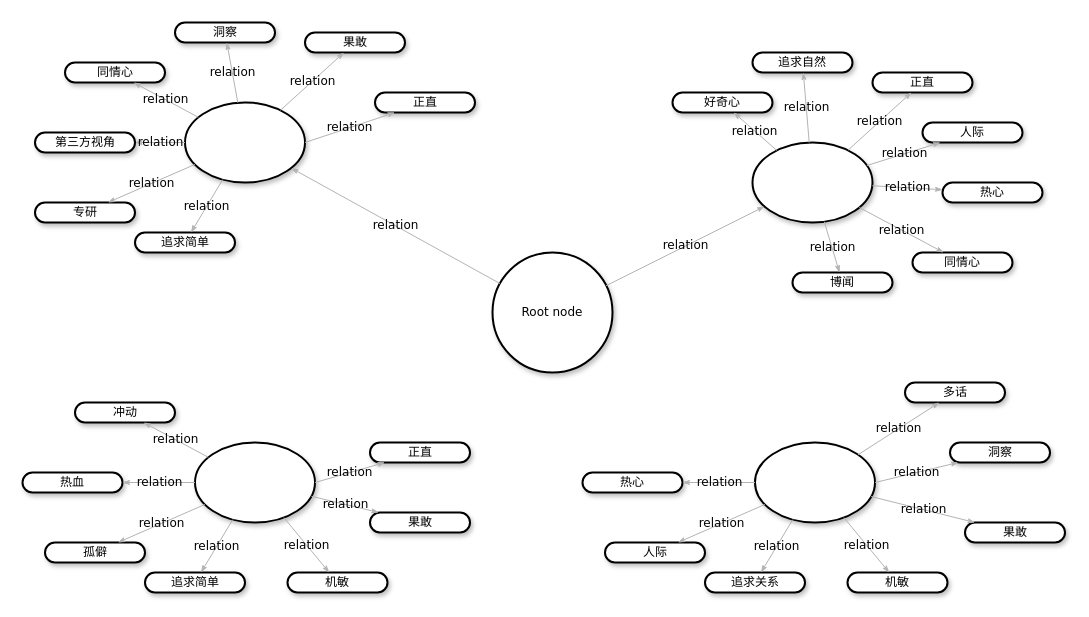
This 1089x617 diagram has some shape labels left out. Each missing label, with the centre of its shape:
"David" goes at (246,143).
"James" goes at (813,183).
"Jerry" goes at (256,483).
"Motrin" goes at (816,483).
